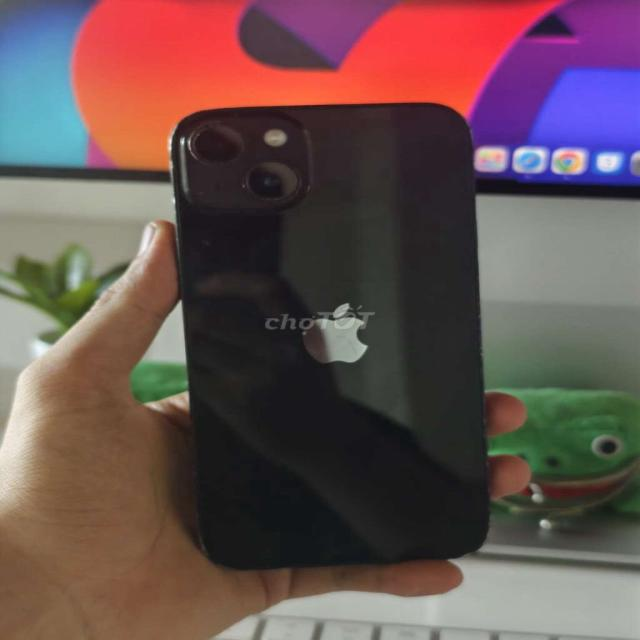gen_14: (164, 100, 505, 577)
